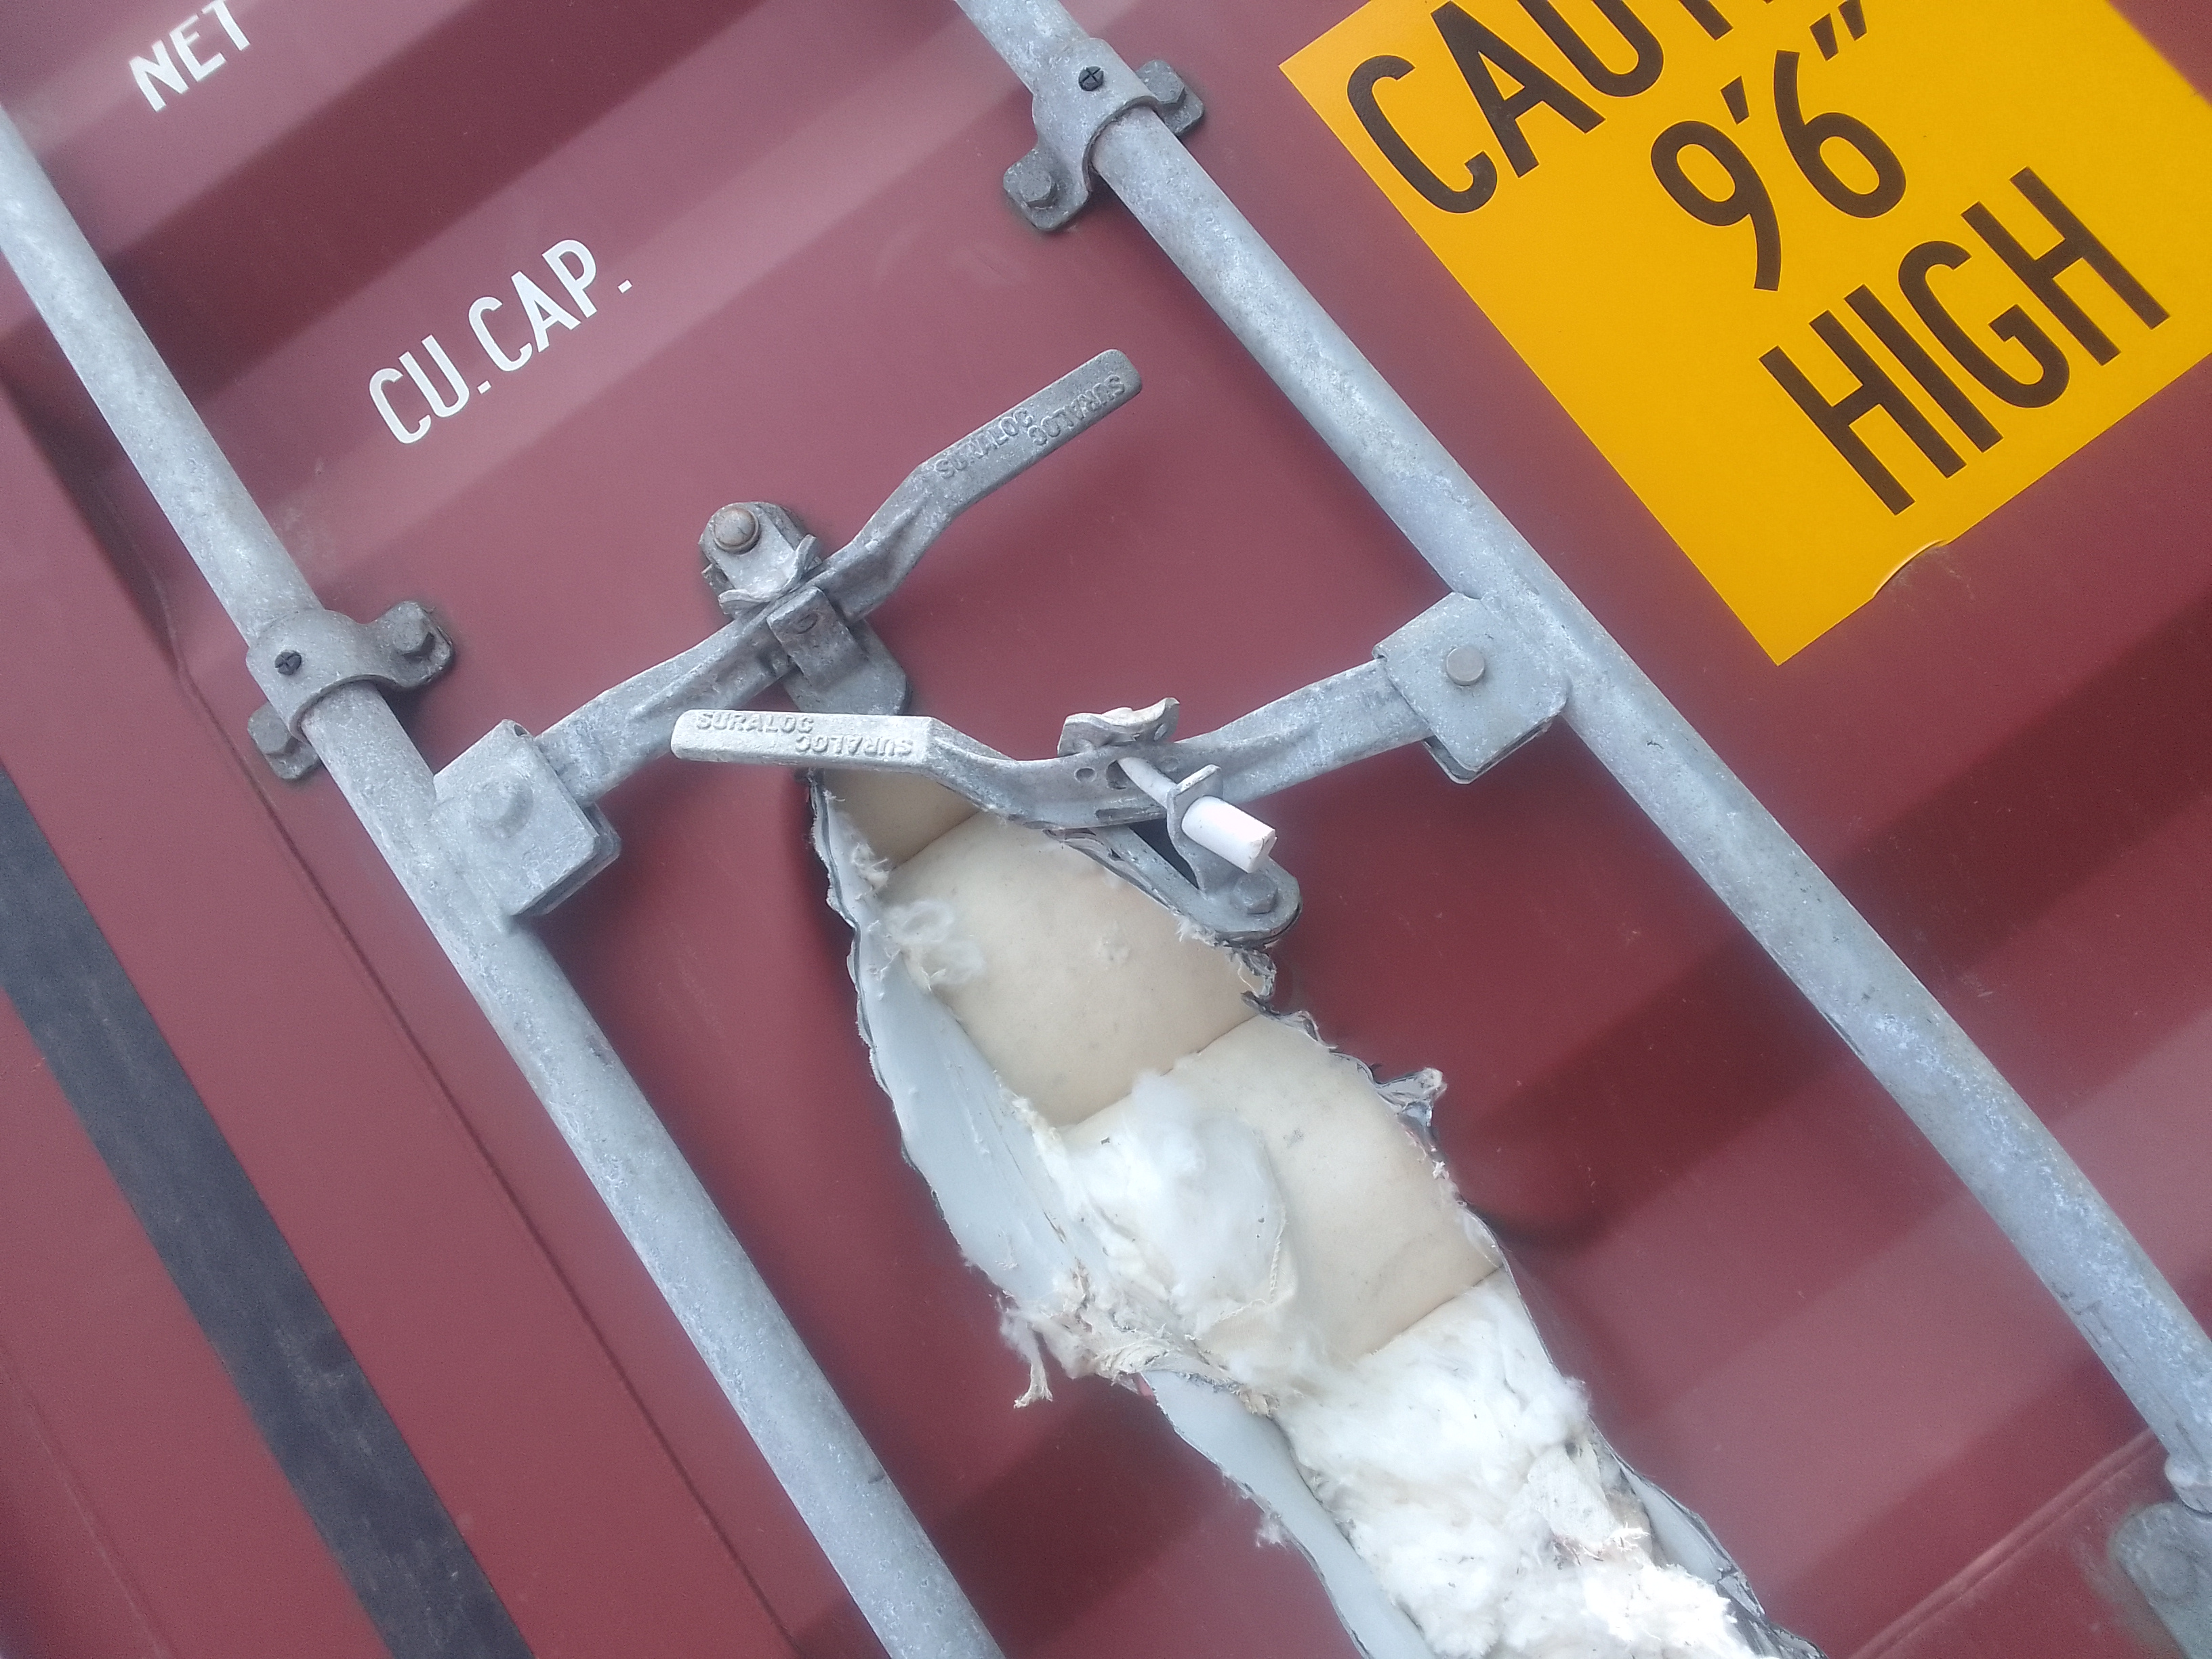severe: (657, 659, 1817, 1647)
